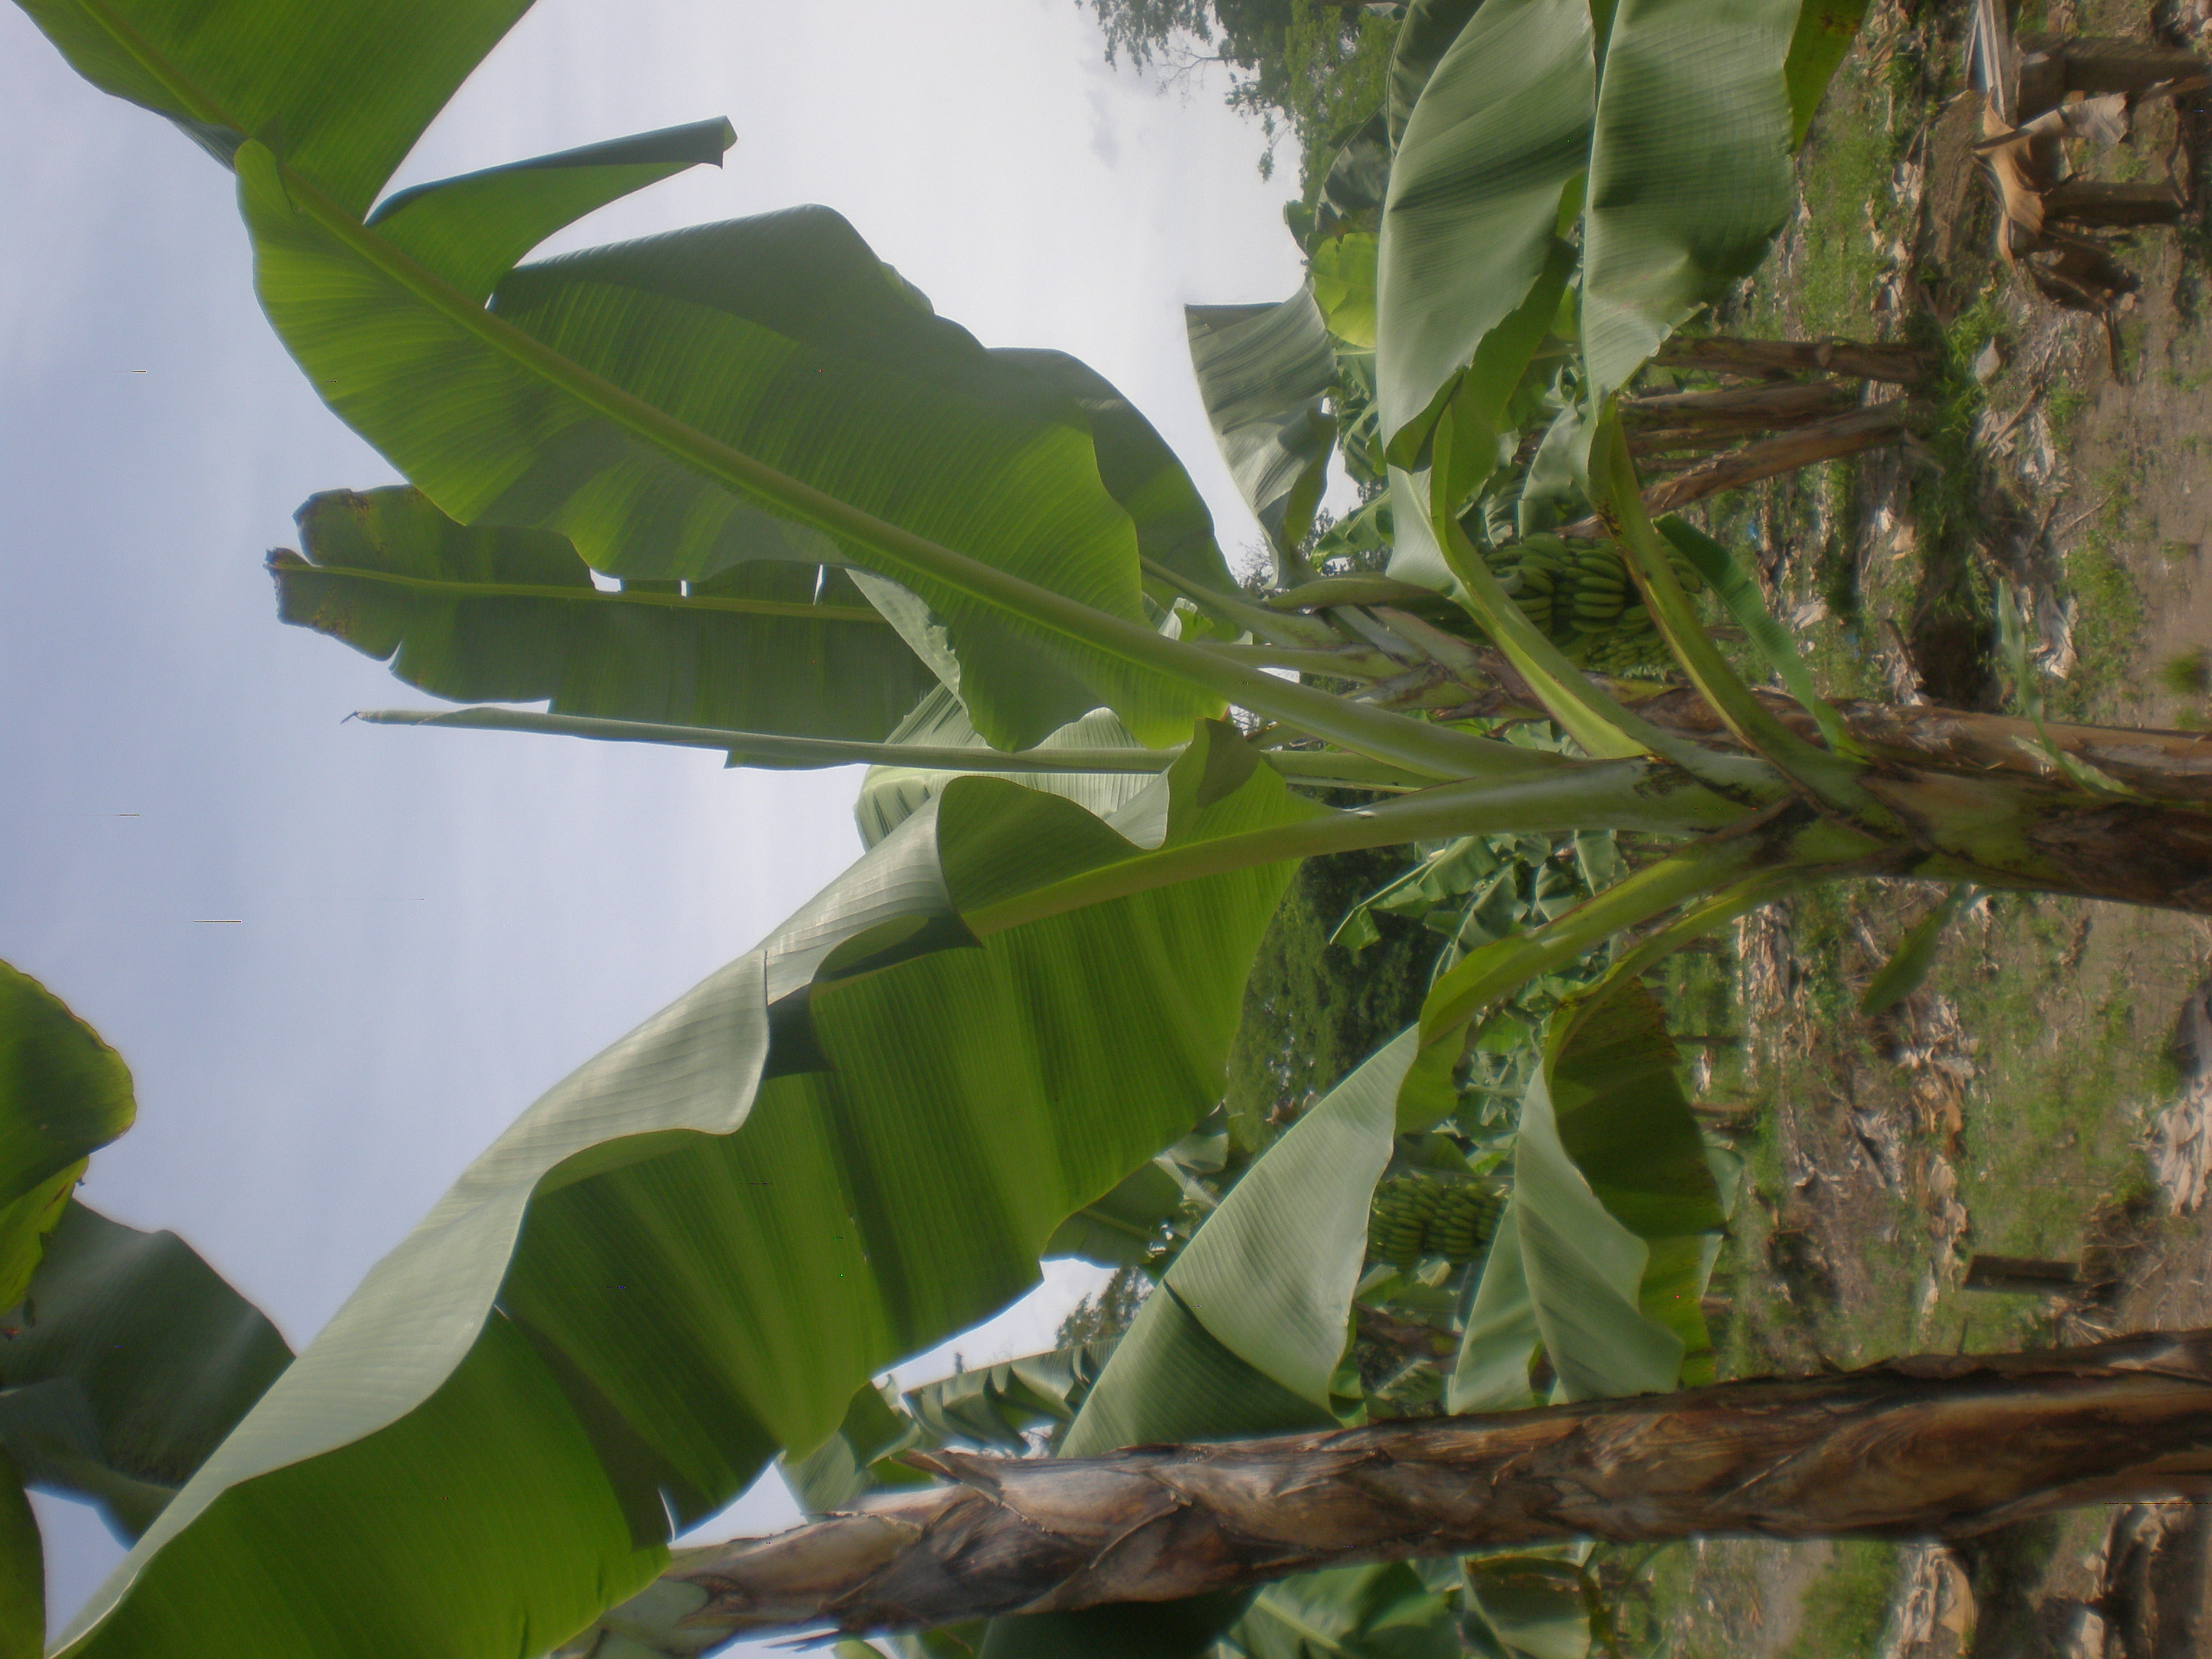candleleafs: (343, 706, 1177, 789)
